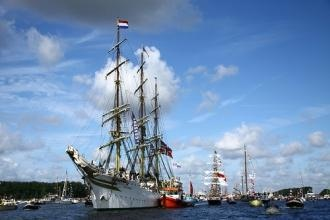fanchuan: (68, 12, 171, 212), (204, 147, 229, 208), (236, 141, 258, 203), (59, 166, 76, 207)
otherboat: (161, 176, 195, 208)
